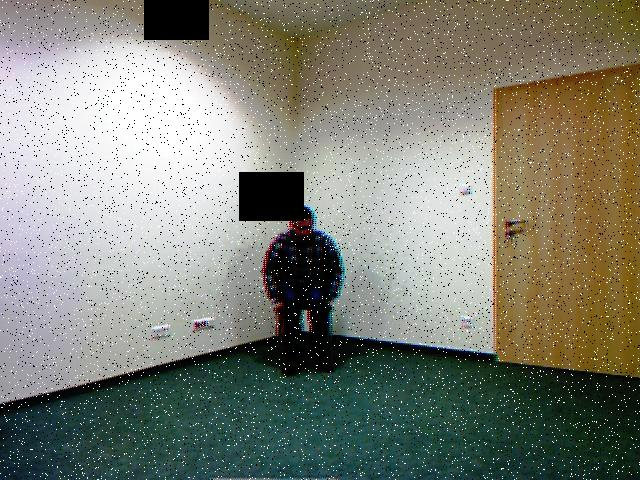sitting: (256, 192, 361, 388)
